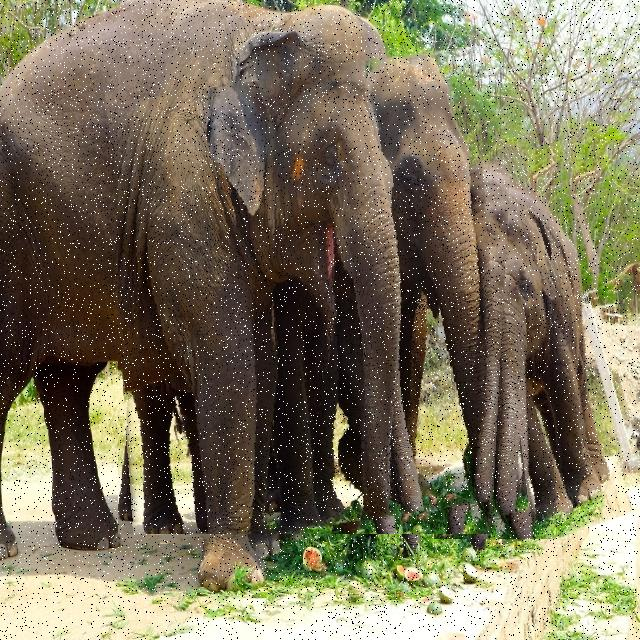elephant: (118, 58, 516, 534), (434, 147, 630, 539)
